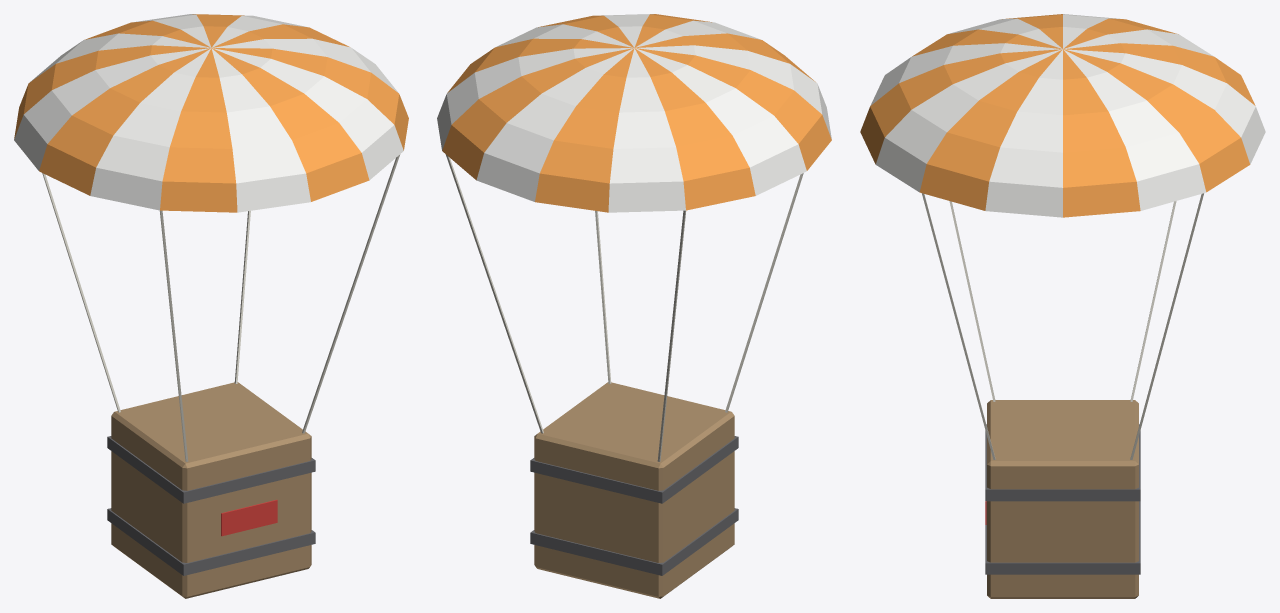
Rendered from prop_supply_crate.glb.
3 renders of one model, left to right at view 1: azimuth 30°, elevation 25°; view 2: azimuth 150°, elevation 25°; view 3: azimuth 270°, elevation 25°, orthographic.
Parts seen in each view (by area): view 1: Parachute, Crate; view 2: Parachute, Crate; view 3: Parachute, Crate.
Boxes of the visible parts, box(x1,y1,x2,y2) form: Parachute: box(14, 14, 408, 461); Crate: box(107, 382, 315, 598); Parachute: box(437, 14, 831, 461); Crate: box(530, 382, 738, 598); Parachute: box(860, 14, 1265, 459); Crate: box(985, 400, 1140, 598).
Size of the model in its own units: 1.6 by 2.26 by 1.6.
